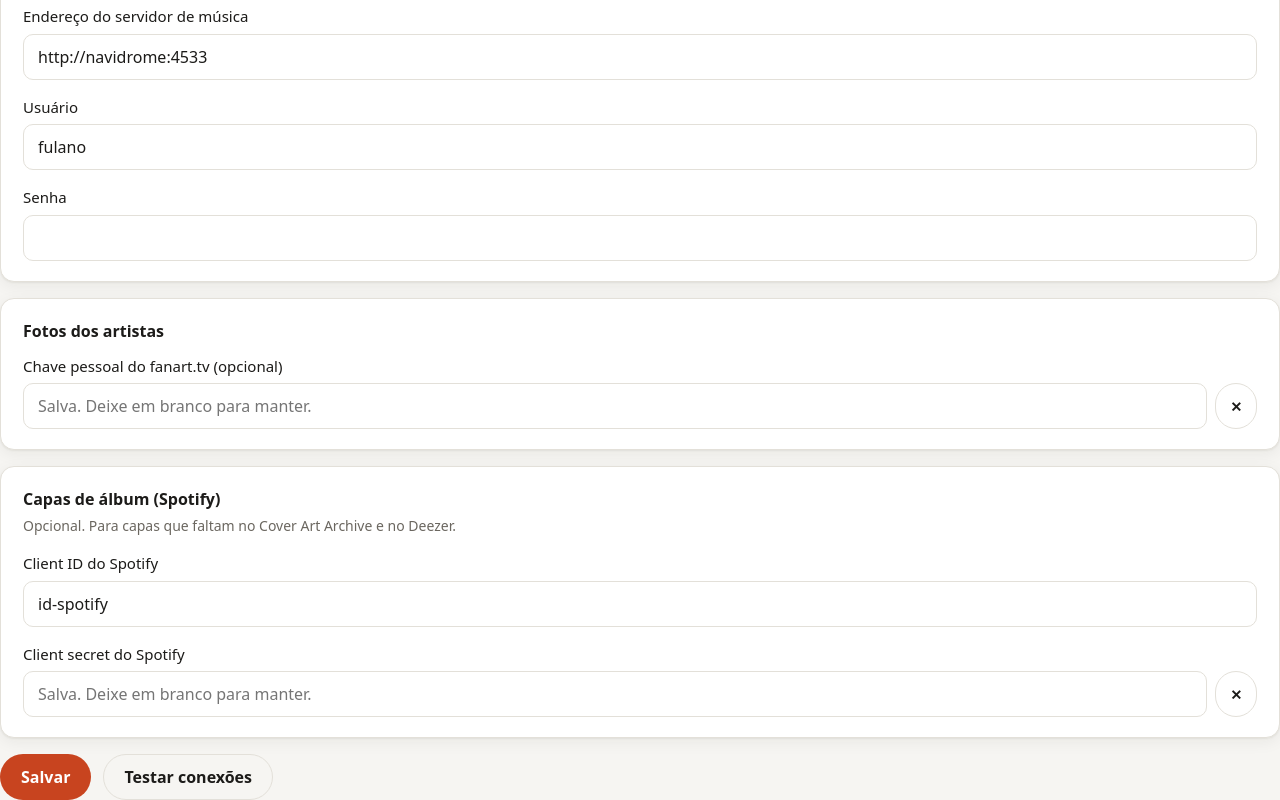
Test: ServerSettingsForm › testa as conexões e mostra o estado de cada uma
(page scrolled)
Click the button "Testar conexões" at (188,777), box [103,754,273,799]
(page scrolled)
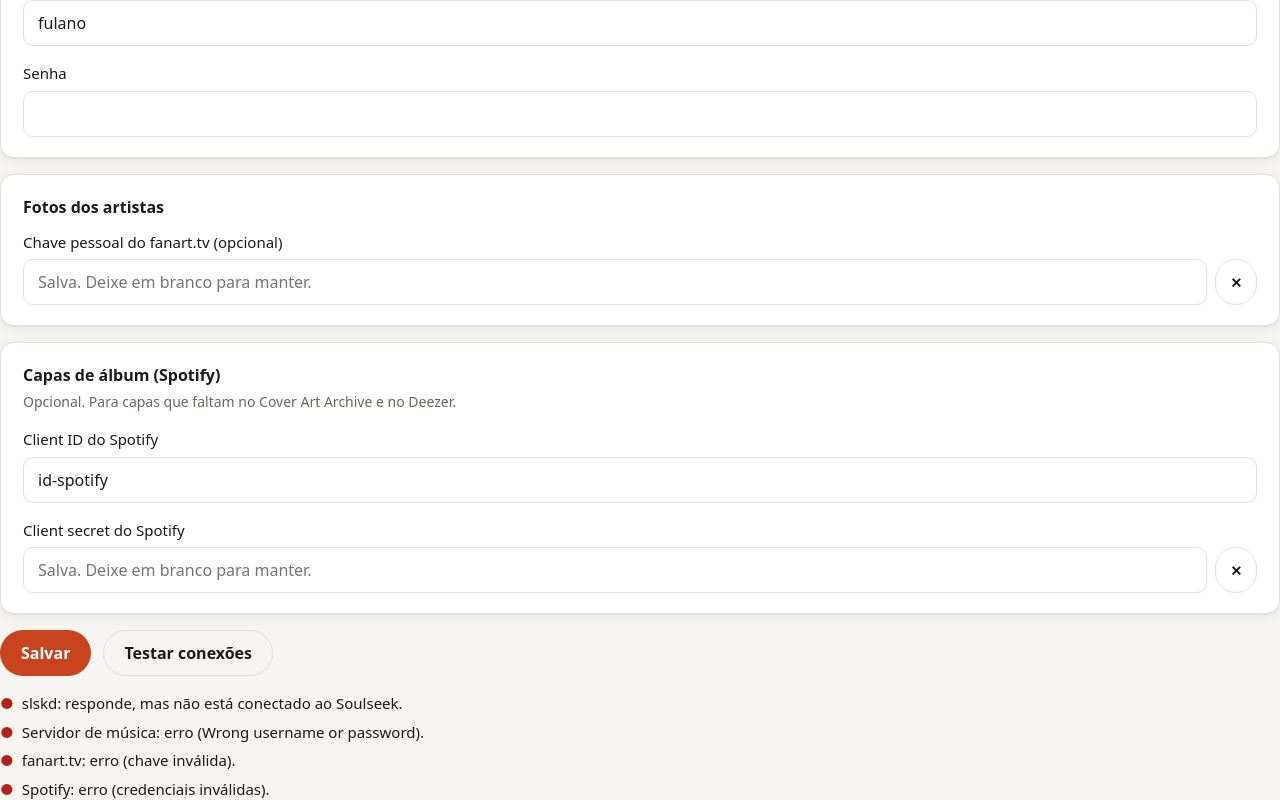
Check: the list item "slskd: responde, mas não está conectado ao Soulseek." is shown, box [22,693,403,713]
Check: the list item "Servidor de música: erro (Wrong username or password)." is shown, box [22,722,424,742]
Check: the list item "fanart.tv: erro (chave inválida)." is shown, box [22,750,236,770]
